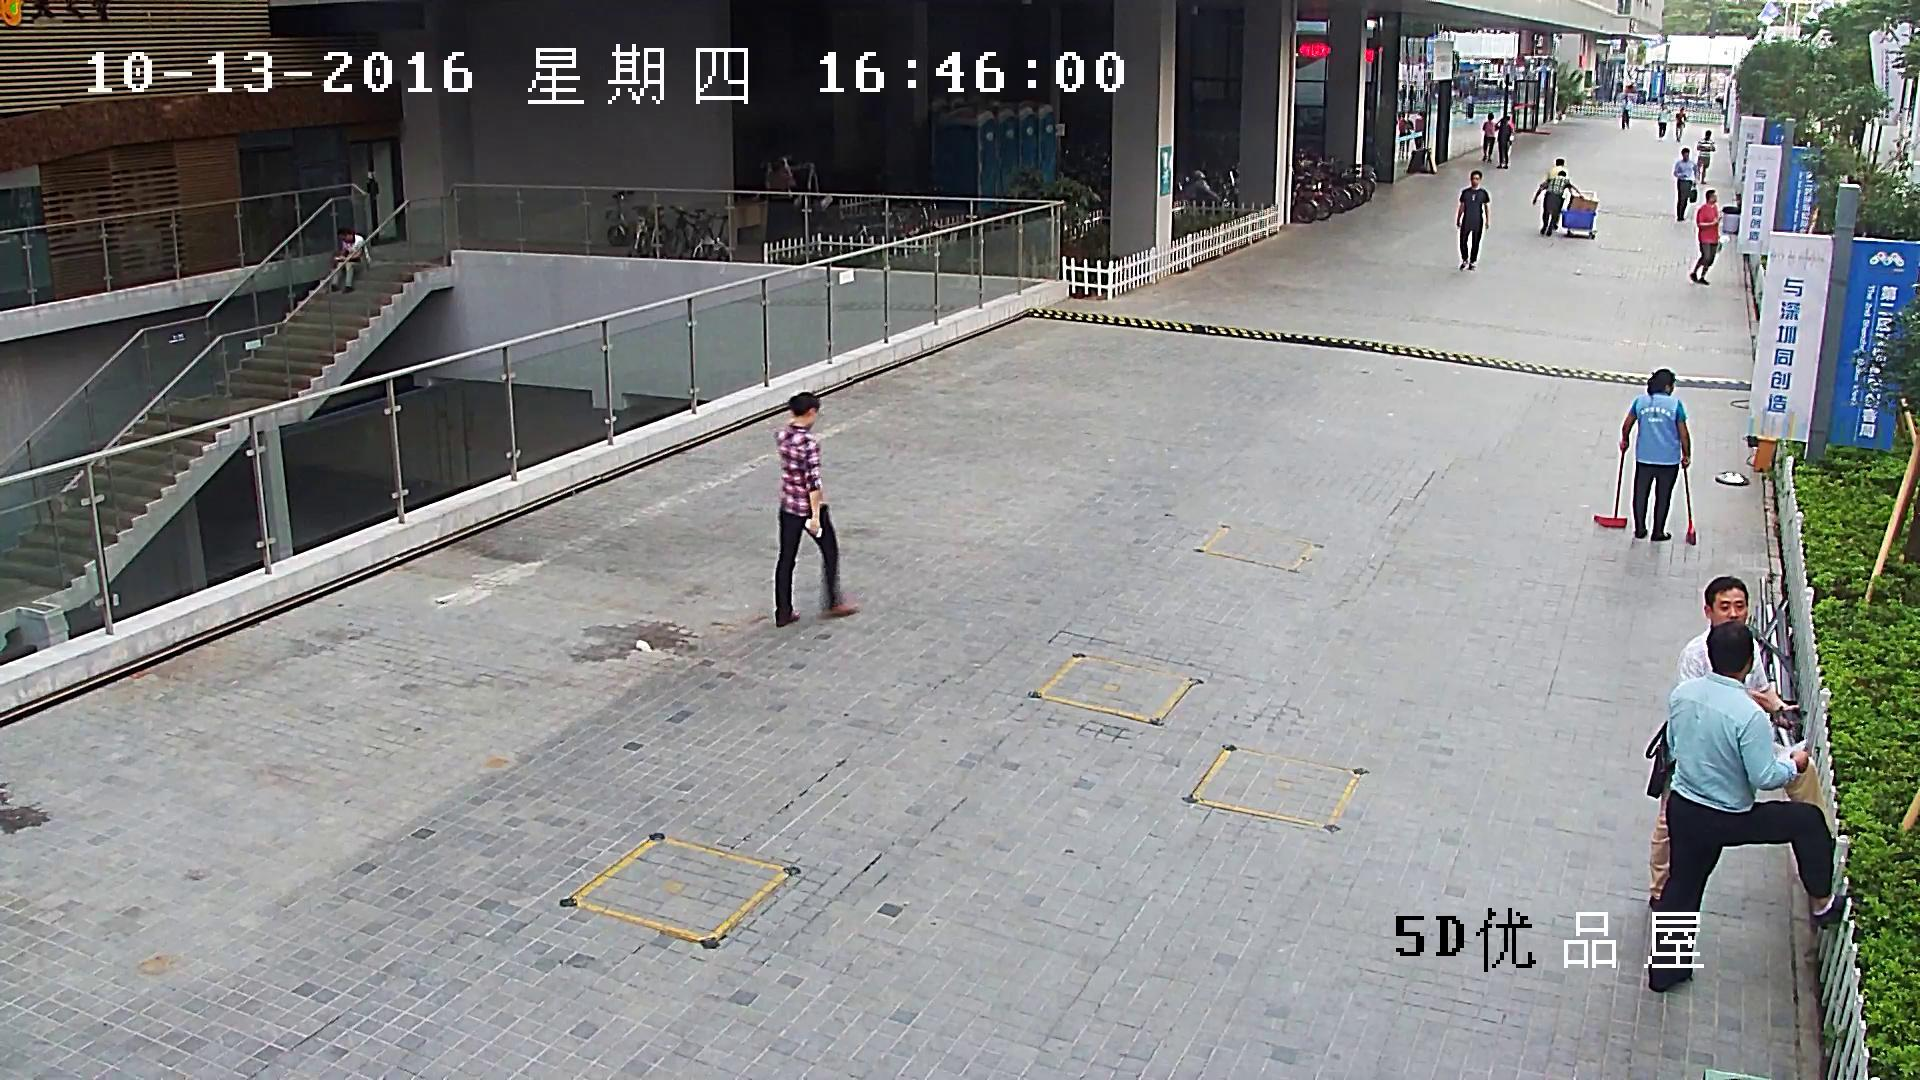person: (1645, 620, 1847, 992), (1649, 576, 1824, 912), (775, 392, 858, 627), (1592, 367, 1696, 544), (1618, 368, 1690, 541), (1532, 170, 1598, 239), (1547, 158, 1599, 239), (1456, 170, 1490, 270), (1532, 170, 1583, 235), (1689, 189, 1722, 285), (328, 228, 372, 293), (1547, 158, 1573, 229), (1673, 147, 1696, 221), (1697, 129, 1715, 183), (1495, 118, 1511, 168), (1399, 112, 1412, 162), (1482, 112, 1495, 162), (1675, 108, 1686, 141), (1621, 96, 1630, 130), (1657, 103, 1667, 137)
